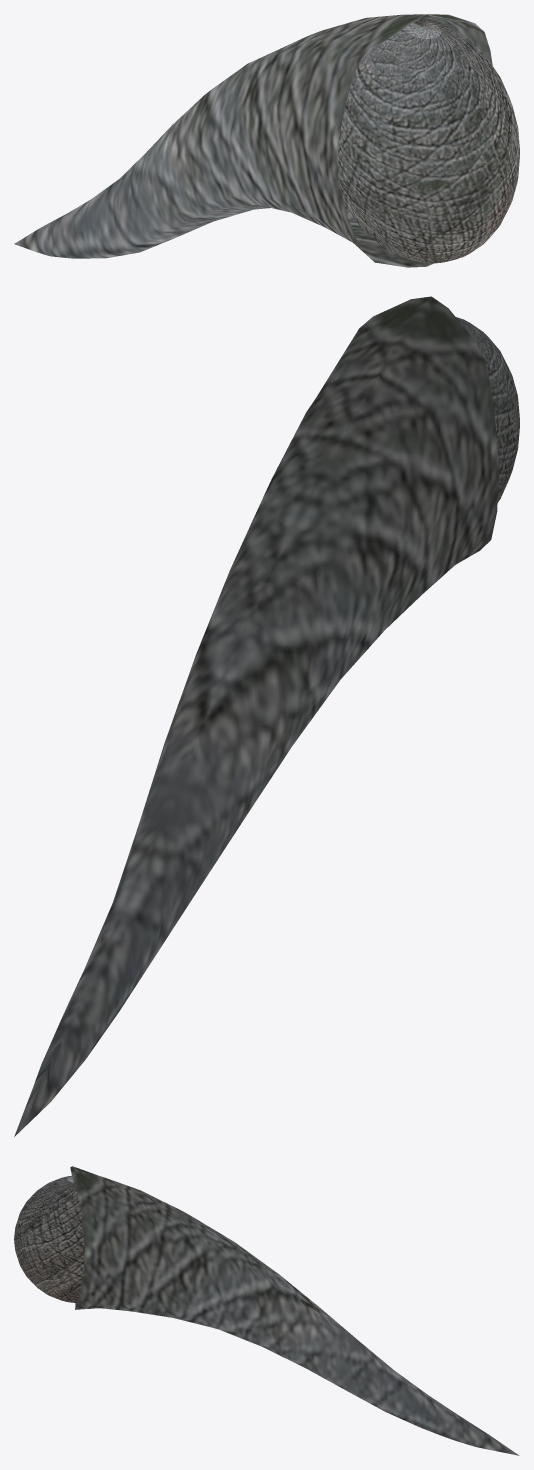
File: cola.obj
3 renders of one model, top to bottom at view 1: azimuth 30°, elevation 25°; view 2: azimuth 150°, elevation 25°; view 3: azimuth 270°, elevation 25°, orthographic. The views are drawn at different scales.
Visible parts, largest first — view 1: Cola; view 2: Cola; view 3: Cola.
Boxes of the visible parts, x1,y1,x2,y2 form: Cola: [14, 14, 519, 267]; Cola: [14, 296, 519, 1136]; Cola: [14, 1166, 519, 1455].
Bounding box in the file's own units: 0.93 × 2.96 × 4.71.
1 material, 1 textured.
